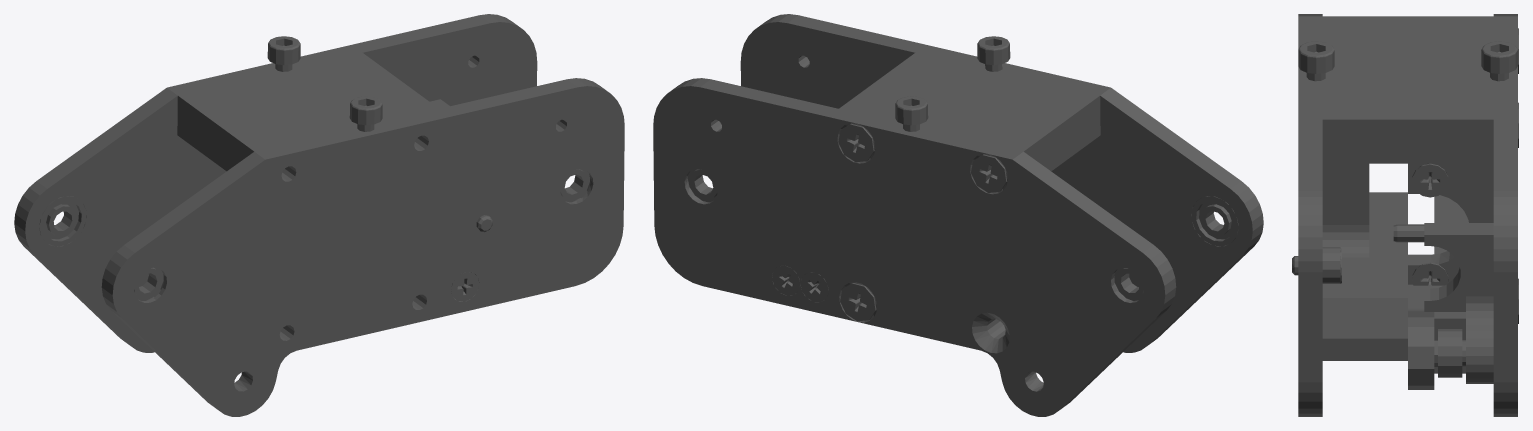
File: Finger1.dae
3 renders of one model, left to right at view 1: azimuth 30°, elevation 25°; view 2: azimuth 150°, elevation 25°; view 3: azimuth 270°, elevation 25°, orthographic. The views are drawn at different scales.
Visible parts, largest first — view 1: node; view 2: node; view 3: node.
Boxes of the visible parts, x1,y1,x2,y2 form: node: (14,14,624,416); node: (653,14,1263,416); node: (1292,14,1518,416).
Bounding box in the file's own units: 0.0541 × 0.0278 × 0.0186.
1 material, 1 textured.
